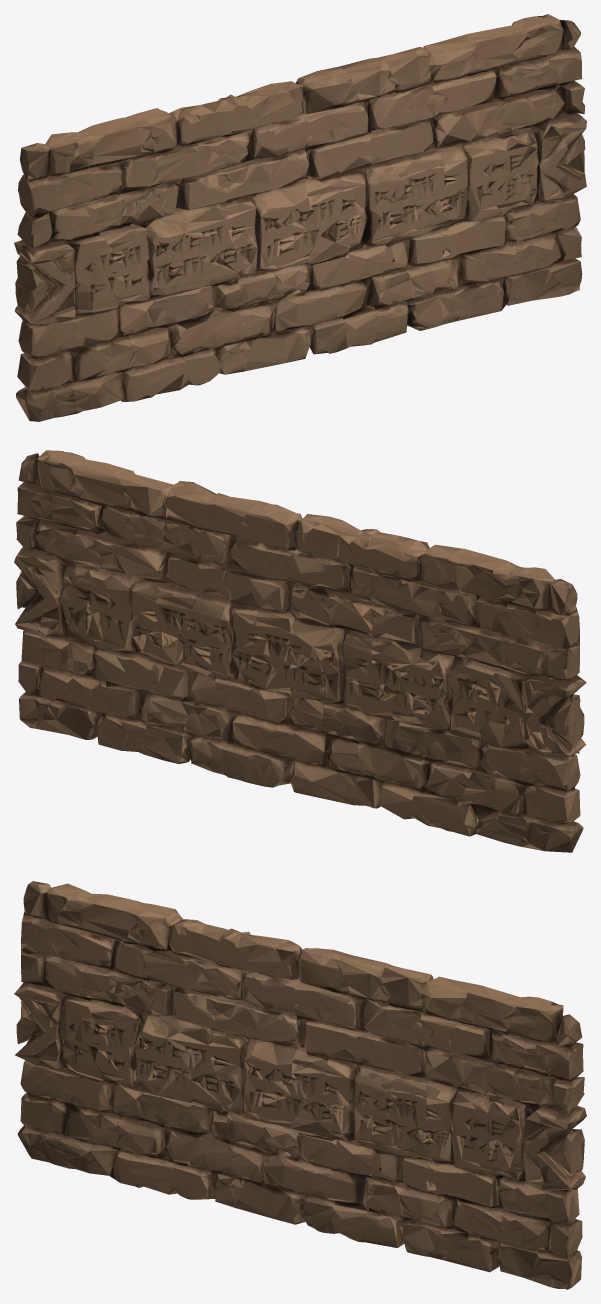
Rendered from ancient_brick_wall.glb.
3 views of the same model, one above another, from view 1: azimuth 30°, elevation 25°; view 2: azimuth 150°, elevation 25°; view 3: azimuth 330°, elevation 25° (orthographic).
Parts seen in each view (by area): view 1: Mesh_0; view 2: Mesh_0; view 3: Mesh_0.
Part boxes in pixels (x1,y1,x2,y2): Mesh_0: (14,14,586,421); Mesh_0: (14,450,586,852); Mesh_0: (14,881,586,1289).
Bounding box in the file's own units: 1.9 × 0.9075 × 0.1205.
Materials: 1 (1 with a texture image).
